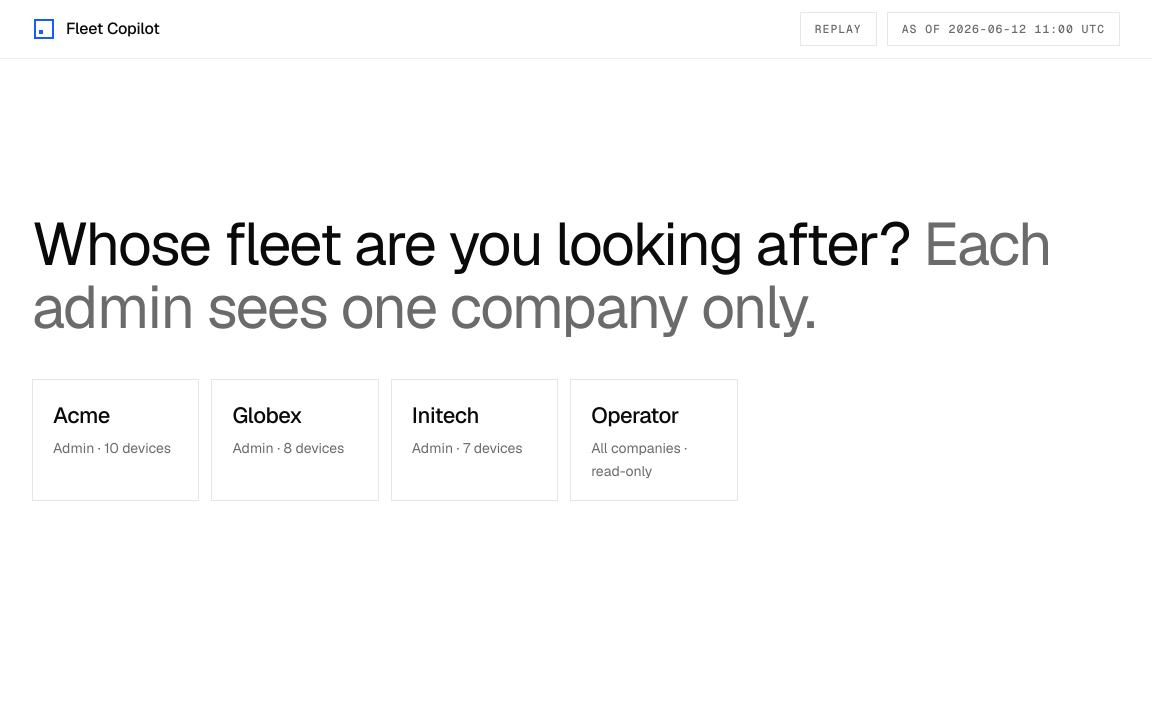
the working thread › makes approval deliberate and labels the outcome as simulated
Click the button "Acme Admin · 10 devices" at (116, 440), box [32,379,199,501]
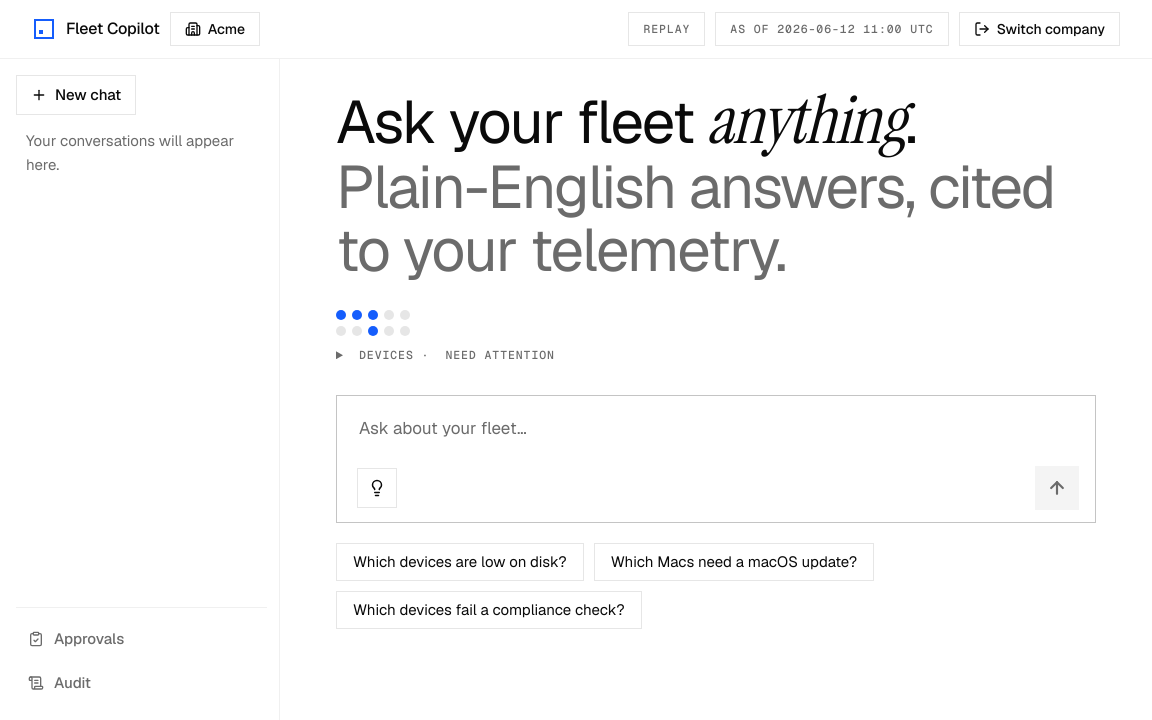
Type "Open a ticket for the first one" into the text box named "ask a question about your fleet" at (718, 440), box [357,414,1079,466]
Then press Enter
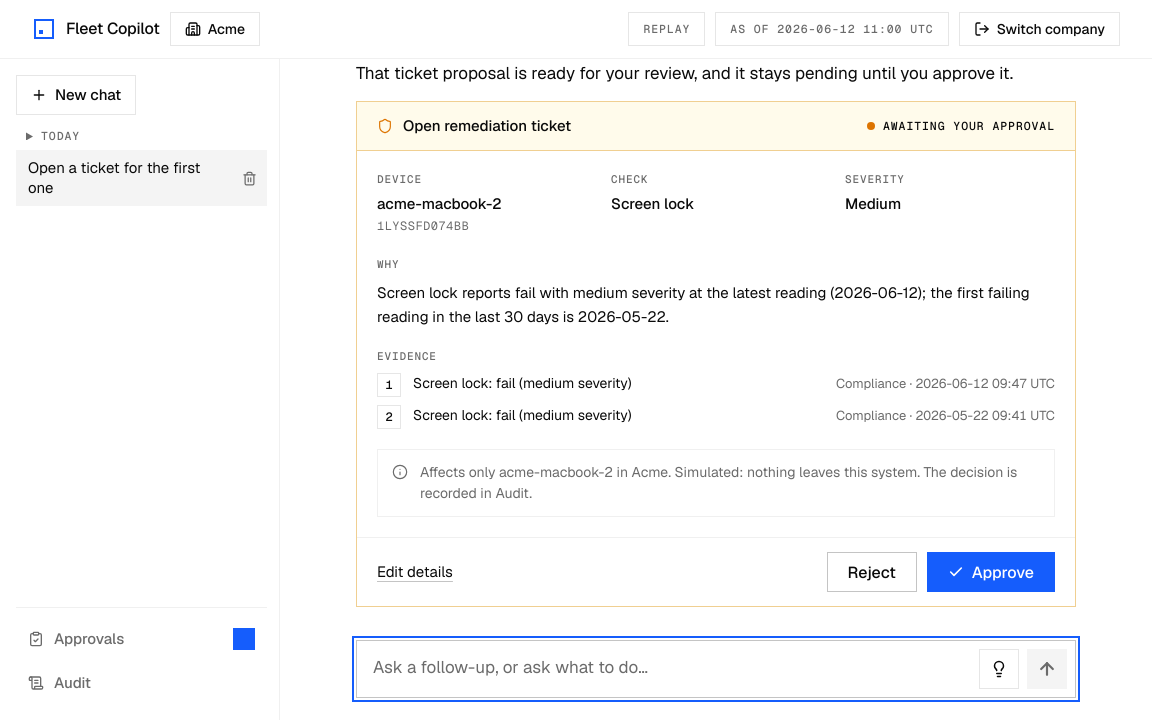
Expected: the text "Awaiting your approval" is shown, [883,118,1055,133]
Expected: the text "ticket proposal is ready for your review, and it stays pending until you approve it." is shown, [356,62,1013,84]
Click the button "Approve" at (991, 572), box [927,552,1055,592]
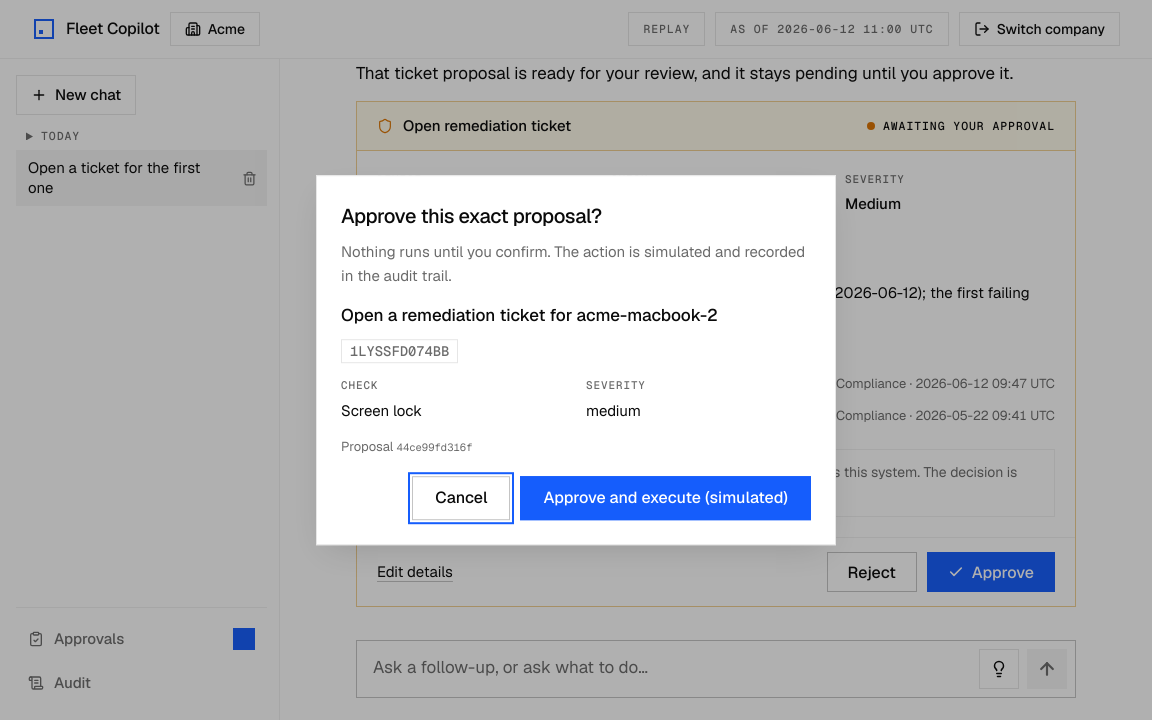
Click the button "Approve and execute (simulated)" at (666, 498), box [520,476,811,520]
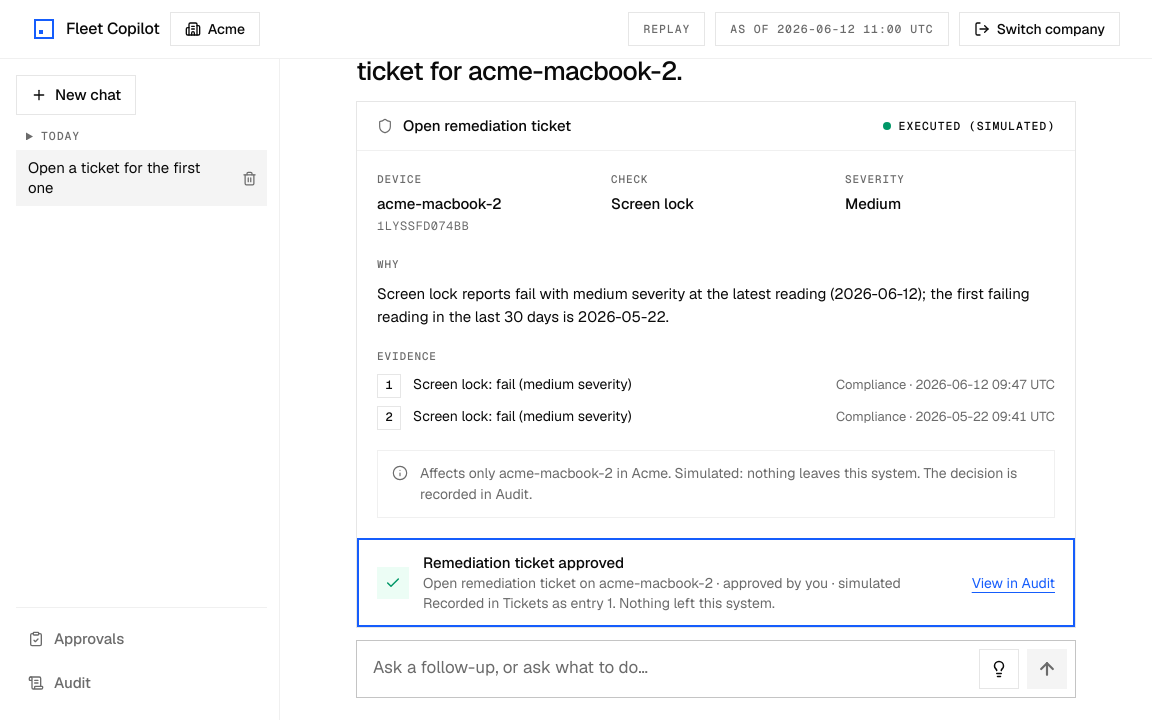
Expected: the number of elements with class "mark" is 1, [883,119,1055,134]
Expected: the message shows "Recorded in Tickets as entry 1. Nothing left this system.", [423,594,775,612]
Expected: the text "Executed (simulated)" is shown, [899,119,1055,134]
